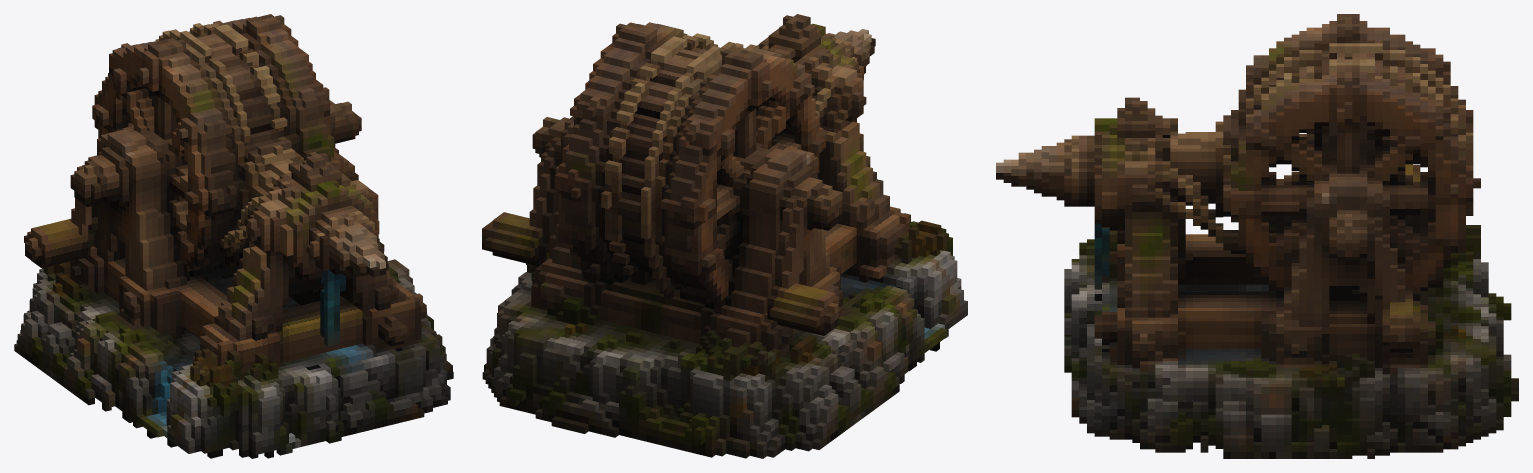
The model's file is u_baliste.glb.
3 views of the same model, side by side, from view 1: azimuth 30°, elevation 25°; view 2: azimuth 150°, elevation 25°; view 3: azimuth 270°, elevation 25° (orthographic). The views are drawn at different scales.
Parts seen in each view (by area): view 1: baliste_body; view 2: baliste_body; view 3: baliste_body.
Boxes of the visible parts, x1,y1,x2,y2 form: baliste_body: (14, 14, 453, 458); baliste_body: (482, 14, 967, 458); baliste_body: (996, 14, 1518, 458).
Bounding box in the file's own units: 0.8396 × 0.775 × 1.11.
1 material, 1 textured.
